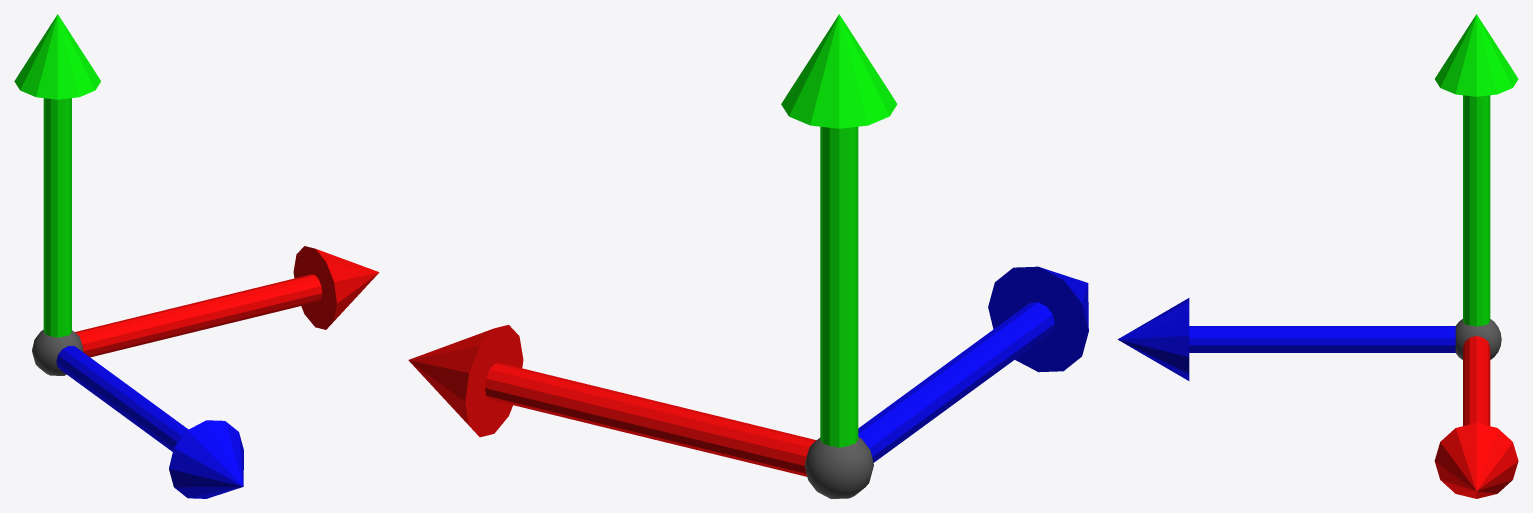
File: frame.obj
3 renders of one model, left to right at view 1: azimuth 30°, elevation 25°; view 2: azimuth 150°, elevation 25°; view 3: azimuth 270°, elevation 25°, orthographic. The views are drawn at different scales.
Parts seen in each view (by area): view 1: Cylinder.002_Cylinder.005, Cylinder.001_Cylinder.004, Cylinder_Cylinder.001, Sphere; view 2: Cylinder.002_Cylinder.005, Cylinder.001_Cylinder.004, Cylinder_Cylinder.001, Sphere; view 3: Cylinder.002_Cylinder.005, Cylinder_Cylinder.001, Cylinder.001_Cylinder.004, Sphere.
Boxes of the visible parts, x1,y1,x2,y2 form: Cylinder.002_Cylinder.005: (14, 14, 100, 337); Cylinder.001_Cylinder.004: (75, 246, 379, 357); Cylinder_Cylinder.001: (56, 346, 243, 498); Sphere: (32, 330, 83, 375); Cylinder.002_Cylinder.005: (781, 14, 897, 447); Cylinder.001_Cylinder.004: (408, 325, 816, 476); Cylinder_Cylinder.001: (858, 266, 1088, 462); Sphere: (805, 437, 873, 498); Cylinder.002_Cylinder.005: (1435, 14, 1518, 326); Cylinder_Cylinder.001: (1117, 298, 1455, 380); Cylinder.001_Cylinder.004: (1434, 336, 1518, 498); Sphere: (1455, 319, 1501, 359).
Size of the model in its own units: 0.1675 by 0.1675 by 0.1675.
